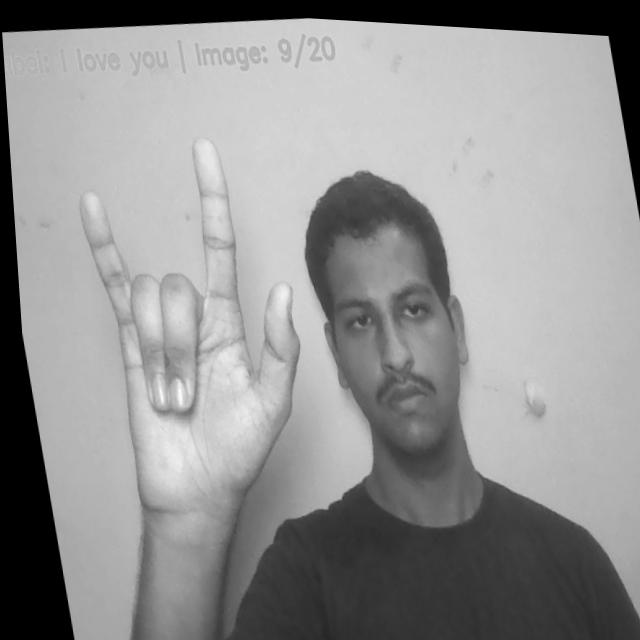I love you: (61, 122, 324, 511)
